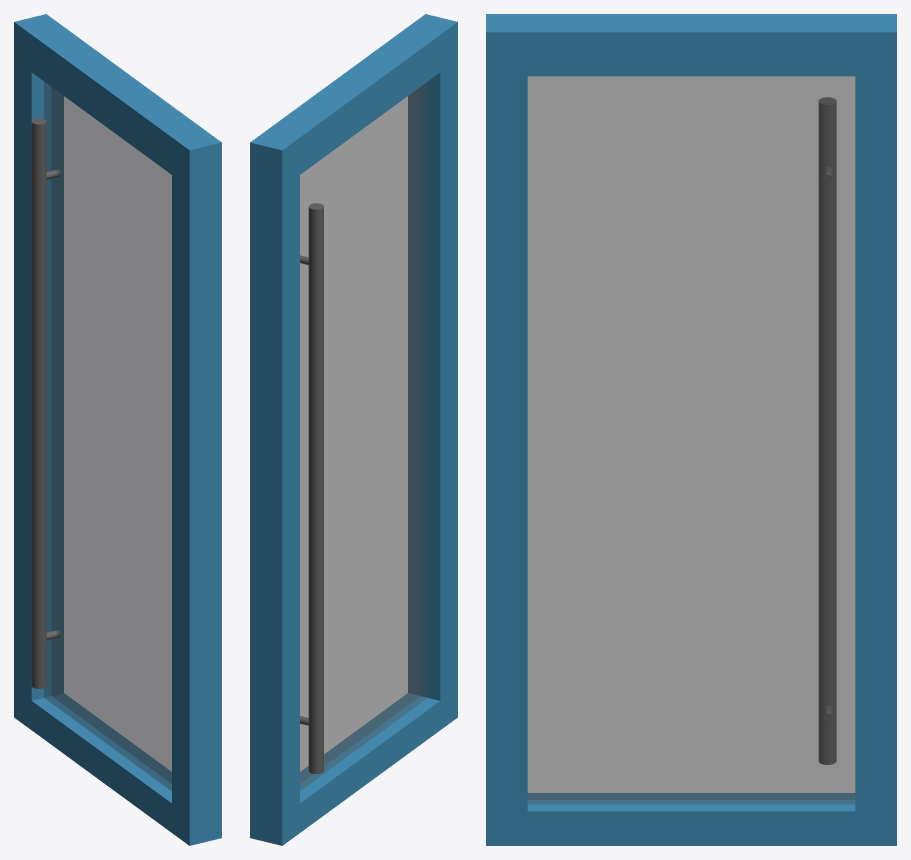
Rendered from baeckerladenTuer.dae.
3 views of the same model, side by side, from view 1: azimuth 30°, elevation 25°; view 2: azimuth 150°, elevation 25°; view 3: azimuth 270°, elevation 25° (orthographic). The views are drawn at different scales.
Parts seen in each view (by area): view 1: door1, pCube1, pCylinder1; view 2: door1, pCube1, pCylinder1; view 3: pCube1, door1, pCylinder1.
Part boxes in pixels (x1=…): door1: x1=14, y1=14, x2=221, y2=845; pCube1: x1=44, y1=82, x2=171, y2=790; pCylinder1: x1=31, y1=118, x2=46, y2=688; door1: x1=250, y1=14, x2=457, y2=845; pCube1: x1=300, y1=82, x2=427, y2=790; pCylinder1: x1=308, y1=203, x2=323, y2=773; pCube1: x1=527, y1=76, x2=855, y2=803; door1: x1=486, y1=14, x2=896, y2=845; pCylinder1: x1=819, y1=97, x2=836, y2=764.
Bounding box in the file's own units: 0.1302 × 1.99 × 0.9108.
